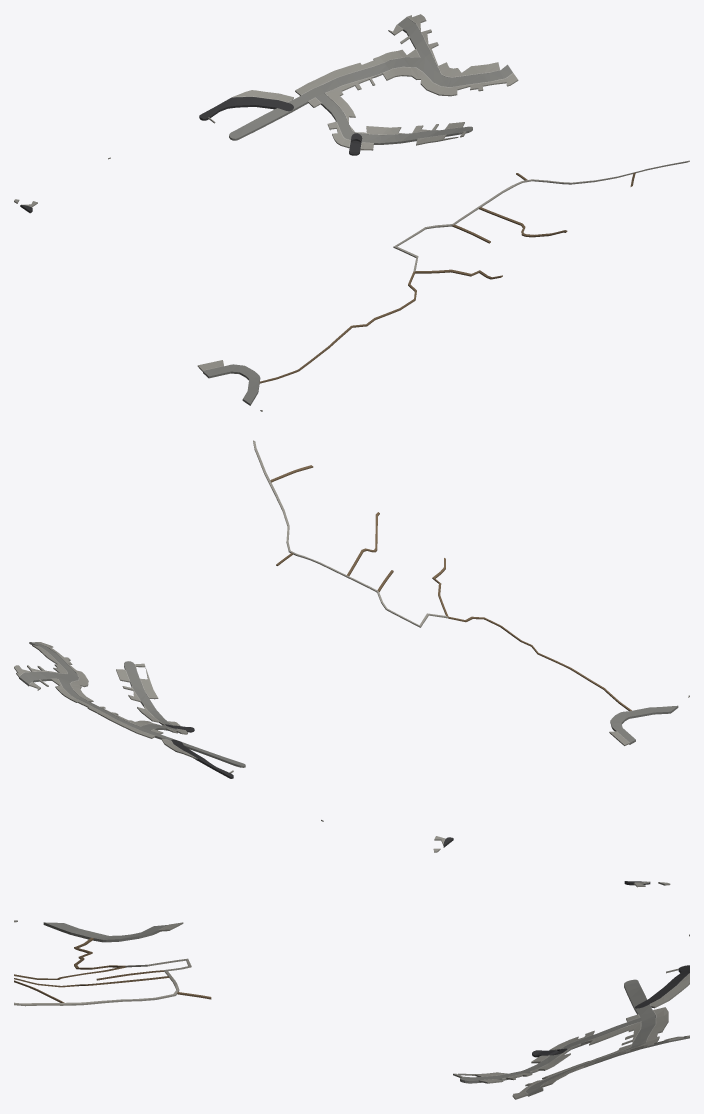
The picture shows the model from 3 angles, top to bottom: view 1: azimuth 30°, elevation 25°; view 2: azimuth 150°, elevation 25°; view 3: azimuth 270°, elevation 25°; orthographic projection. The views are drawn at different scales.
Bounding box in the file's own units: 293 × 95.47 × 292.
